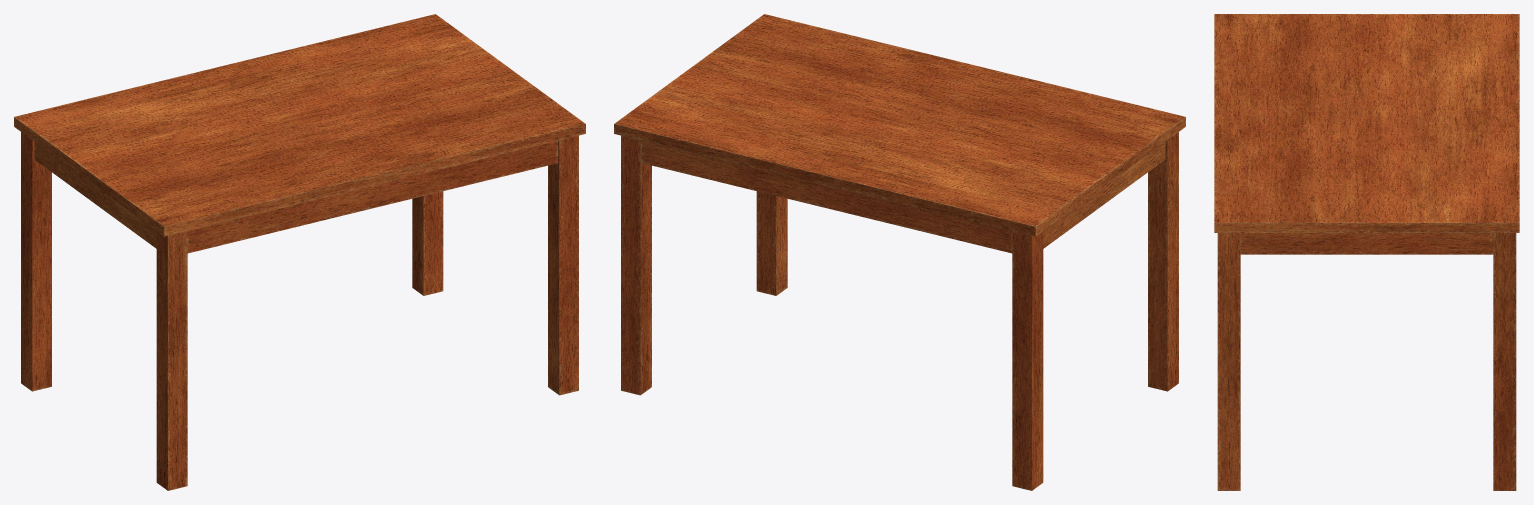
Rendered from Table01.glb.
The picture shows the model from 3 angles, left to right: view 1: azimuth 30°, elevation 25°; view 2: azimuth 150°, elevation 25°; view 3: azimuth 270°, elevation 25°; orthographic projection.
Visible parts, largest first — view 1: Table01_model; view 2: Table01_model; view 3: Table01_model.
Part boxes in pixels (x1,y1,x2,y2): Table01_model: (14,14,585,490); Table01_model: (614,14,1185,490); Table01_model: (1214,14,1519,490).
Bounding box in the file's own units: 2.64 × 1.59 × 1.63.
Materials: 1 (1 with a texture image).
